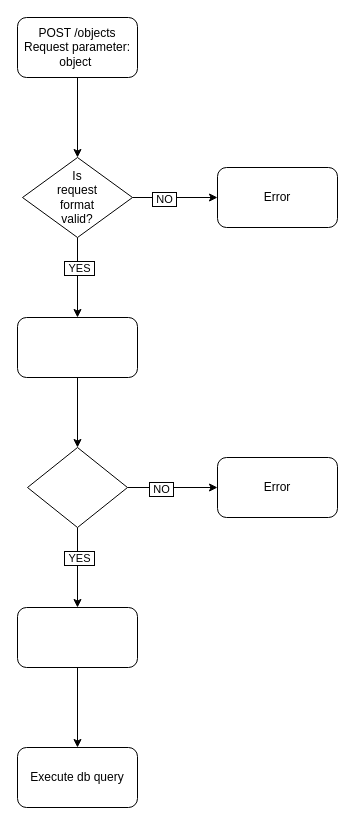
Image size: 355x825. Some labels were removed from this diagram. Here are the shapes that lost their labels. From the top down, the centre of each, then its label:
At (77,347): "Load class for object".
At (77,487): "Is object valid for class?".
At (77,637): "Build db query".
